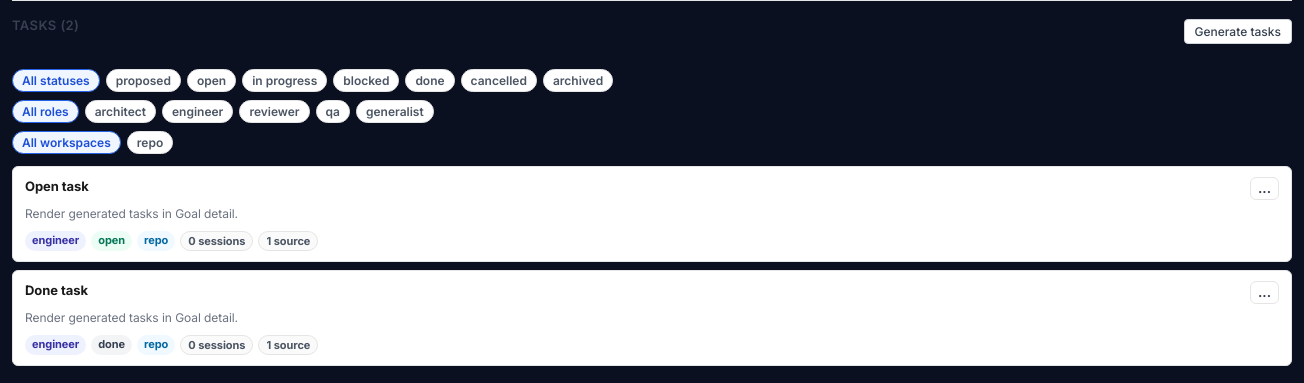
it: TasksPanel › filters by status chip
The image size is (1304, 383).
Click the button "done": (430, 80) [405,69,455,92]
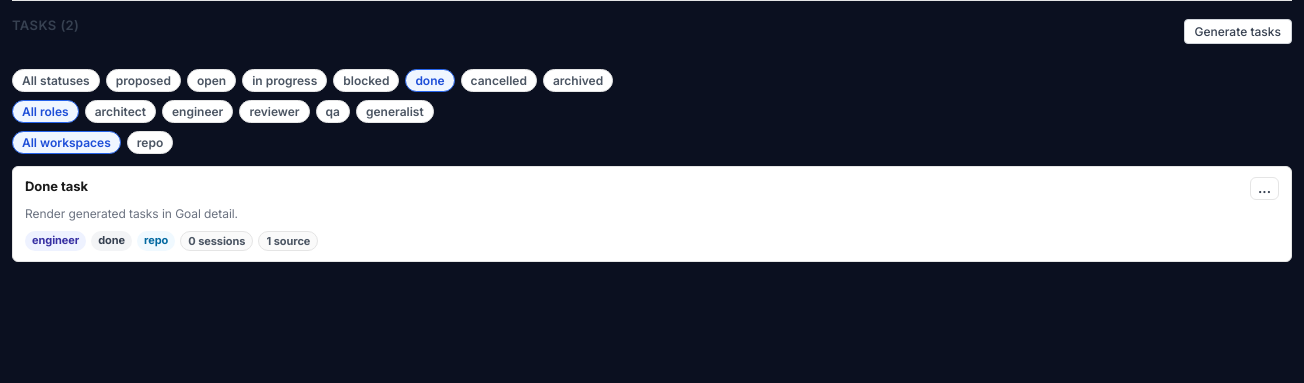
Check: the text "Done task" is shown, box [25,177,88,195]
Check: the text "Open task" is gone
